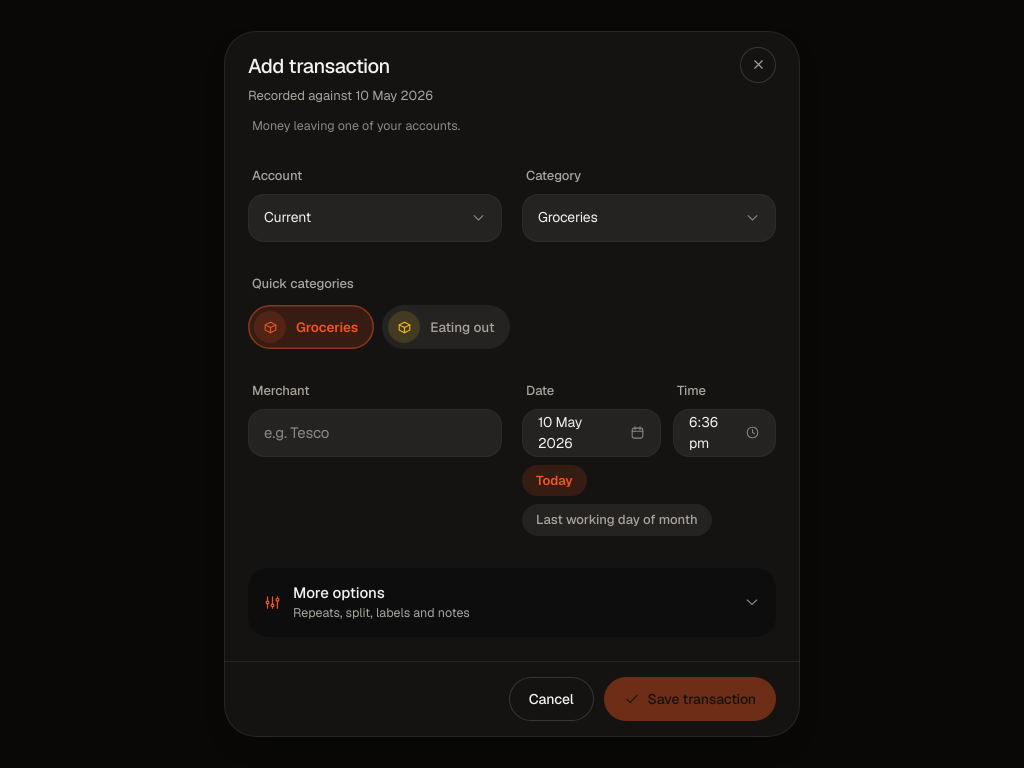
Test: date shortcuts › rolls back to the Friday when the month ends at a weekend
(page scrolled)
Click the button "Last working day of month" at (617, 520), box x1=522 y1=504 x2=712 y2=536
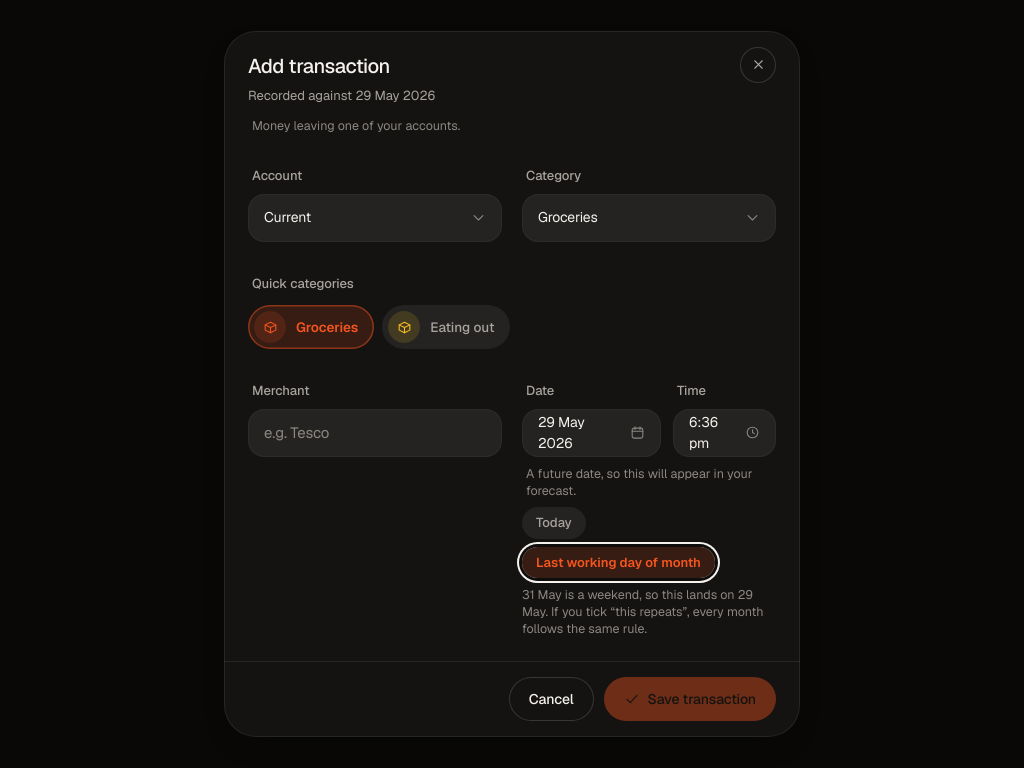
Now the text "29 May 2026" is shown, box x1=538 y1=413 x2=585 y2=452
Now the text "is a weekend, so this lands on" is shown, box x1=522 y1=586 x2=764 y2=638
